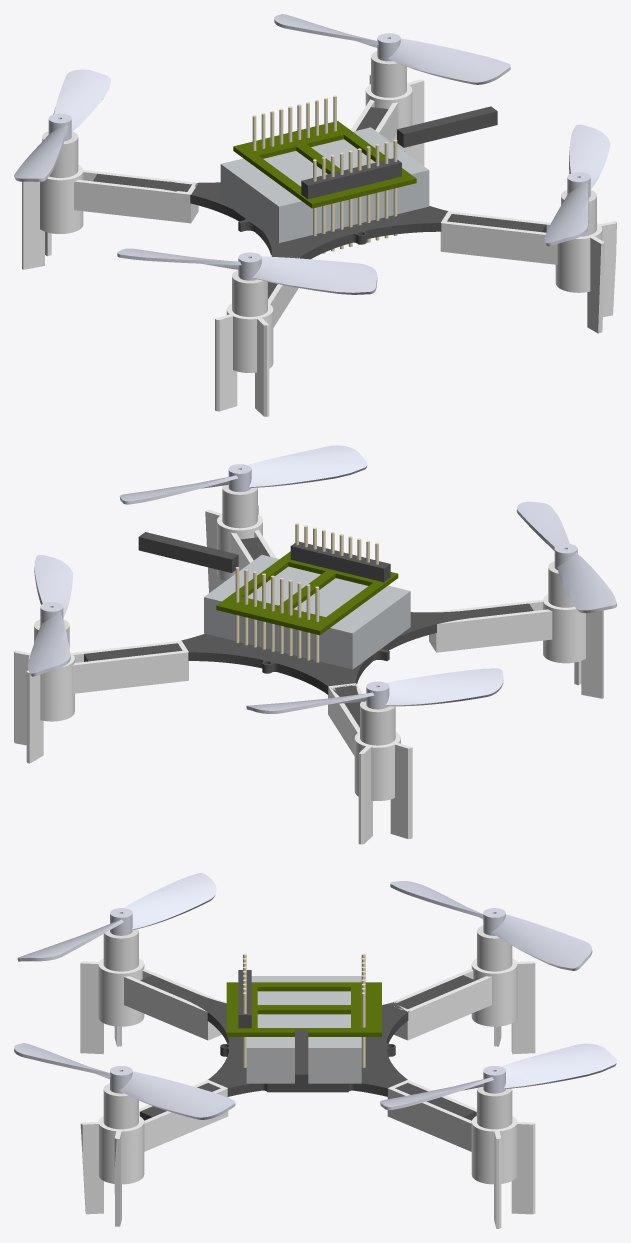
The model's file is cf2_color.dae.
3 renders of one model, top to bottom at view 1: azimuth 30°, elevation 25°; view 2: azimuth 150°, elevation 25°; view 3: azimuth 270°, elevation 25°, orthographic.
Parts seen in each view (by area): view 1: Part1, MotorMountsSlanted_006, pcb, Propeller_mockup_002, MotorMountsSlanted_003, Propeller_mockup, Part3, MotorMountsSlanted_001, MotorMountsSlanted_004, Propeller_mockup_003, Propeller_mockup_001, Part5_001 (+7 smaller); view 2: Part1, pcb, Propeller_mockup_001, Propeller_mockup_003, MotorMountsSlanted_004, Part3, MotorMountsSlanted_005, MotorMountsSlanted_002, MotorMountsSlanted, MotorMountsSlanted_003, Propeller_mockup_002, Propeller_mockup (+7 smaller); view 3: Part1, pcb, MotorMountsSlanted_006, Part3, MotorMountsSlanted_005, Propeller_mockup, Propeller_mockup_003, Propeller_mockup_001, Propeller_mockup_002, MotorMountsSlanted_004, MotorMountsSlanted_003, MotorMountsSlanted_001 (+8 smaller).
Boxes of the visible parts, box(x1,y1,x2,y2) form: Part1: box(220, 127, 429, 242); MotorMountsSlanted_006: box(440, 211, 616, 333); pcb: box(93, 107, 546, 298); Propeller_mockup_002: box(117, 248, 377, 294); MotorMountsSlanted_003: box(215, 303, 273, 416); Propeller_mockup: box(274, 14, 510, 84); Part3: box(233, 121, 416, 208); MotorMountsSlanted_001: box(74, 170, 198, 223); MotorMountsSlanted_004: box(22, 164, 83, 269); Propeller_mockup_003: box(14, 69, 110, 181); Propeller_mockup_001: box(544, 124, 610, 246); Part5_001: box(397, 106, 497, 147); Part1: box(204, 555, 410, 669); pcb: box(84, 537, 533, 727); Propeller_mockup_001: box(119, 445, 367, 504); Propeller_mockup_003: box(246, 668, 503, 713); MotorMountsSlanted_004: box(354, 732, 412, 844); Part3: box(216, 551, 398, 635); MotorMountsSlanted_005: box(14, 650, 74, 763); MotorMountsSlanted_002: box(429, 599, 552, 652); MotorMountsSlanted: box(71, 640, 188, 693); MotorMountsSlanted_003: box(543, 594, 603, 698); Propeller_mockup_002: box(516, 501, 616, 613); Propeller_mockup: box(28, 555, 72, 676); Part1: box(246, 976, 361, 1083); pcb: box(140, 975, 475, 1120); MotorMountsSlanted_006: box(80, 1080, 228, 1226); Part3: box(226, 982, 381, 1036); MotorMountsSlanted_005: box(471, 1116, 535, 1228); Propeller_mockup: box(380, 1043, 616, 1110); Propeller_mockup_003: box(390, 881, 592, 970); Propeller_mockup_001: box(14, 1043, 235, 1119); Propeller_mockup_002: box(17, 873, 216, 961); MotorMountsSlanted_004: box(471, 958, 535, 1054); MotorMountsSlanted_003: box(80, 958, 144, 1054); MotorMountsSlanted_001: box(389, 968, 491, 1040).
Size of the model in its own units: 0.098 by 0.1055 by 0.031.
